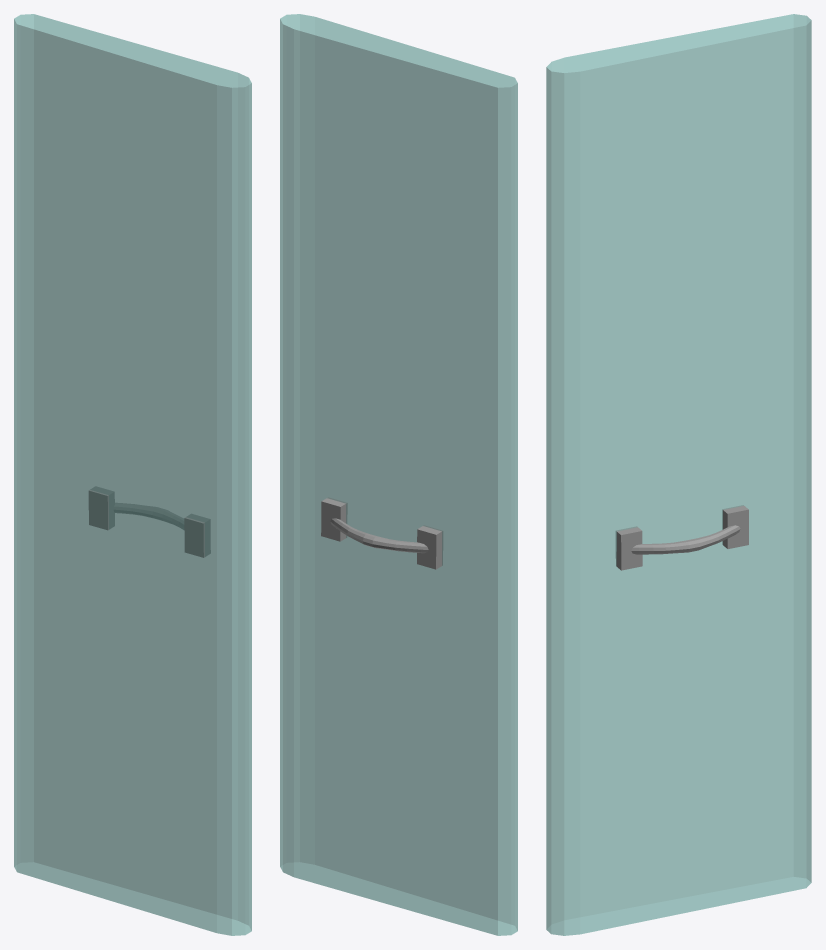
File: Transparent Door(The one that Opens).fbx
The picture shows the model from 3 angles, left to right: view 1: azimuth 30°, elevation 25°; view 2: azimuth 210°, elevation 25°; view 3: azimuth 270°, elevation 25°; orthographic projection.
Parts seen in each view (by area): view 1: Transparent Door 3 (the one that opens); view 2: Transparent Door 3 (the one that opens); view 3: Transparent Door 3 (the one that opens).
Boxes of the visible parts, x1,y1,x2,y2 form: Transparent Door 3 (the one that opens): (14,14,251,935); Transparent Door 3 (the one that opens): (280,14,517,935); Transparent Door 3 (the one that opens): (546,14,811,935).
Size of the model in its own units: 194 by 1318 by 367.
